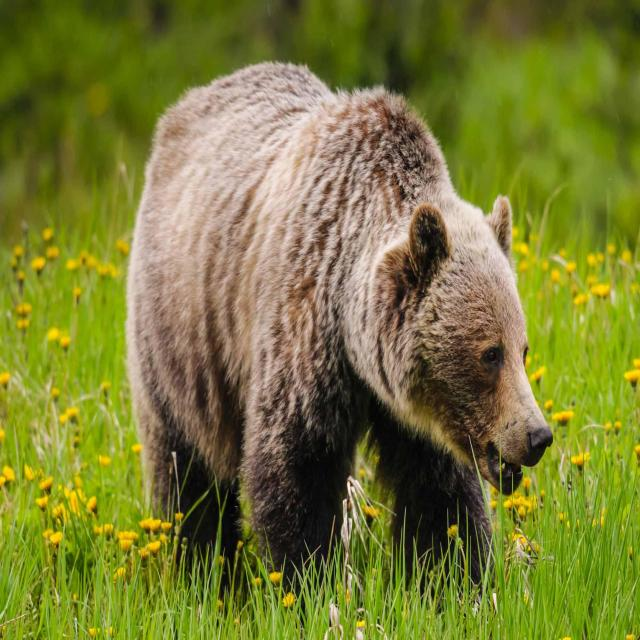Bear: (125, 61, 555, 589)
